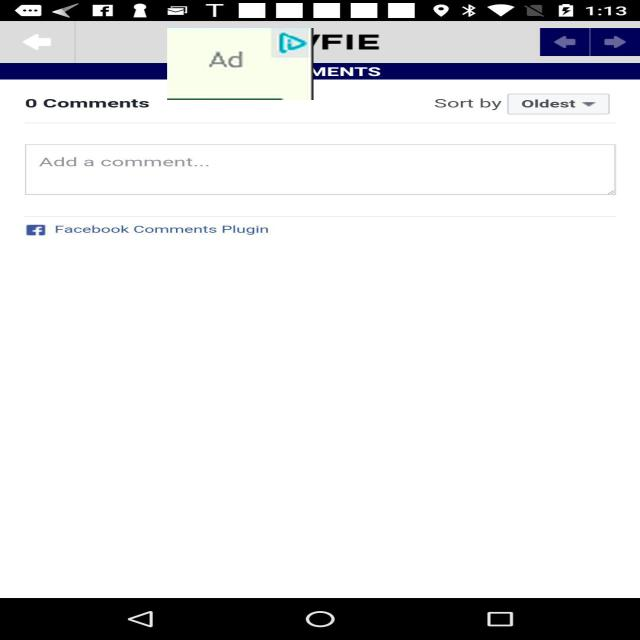sneaking: (167, 28, 314, 100)
